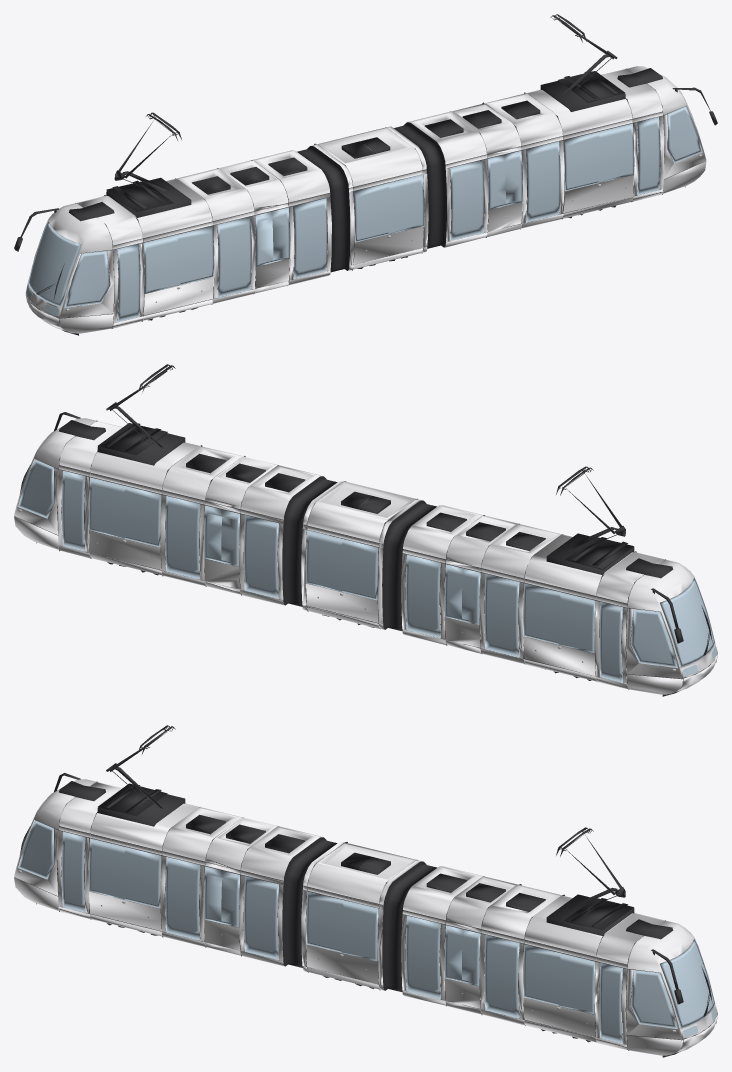
File: archmodels55-26.glb
3 renders of one model, top to bottom at view 1: azimuth 30°, elevation 25°; view 2: azimuth 150°, elevation 25°; view 3: azimuth 330°, elevation 25°, orthographic. The views are drawn at different scales.
Parts seen in each view (by area): view 1: Archmodels55_26_white, Archmodels55_26_glass, Archmodels55_26_black, Archmodels55_26_black_glass, Archmodels55_26_black2; view 2: Archmodels55_26_white, Archmodels55_26_glass, Archmodels55_26_black, Archmodels55_26_black_glass, Archmodels55_26_black2; view 3: Archmodels55_26_white, Archmodels55_26_glass, Archmodels55_26_black, Archmodels55_26_black_glass, Archmodels55_26_black2.
Part boxes in pixels (left/top/right/bottom): Archmodels55_26_white: left=25, top=66, right=706, bottom=333; Archmodels55_26_glass: left=26, top=97, right=698, bottom=315; Archmodels55_26_black: left=14, top=14, right=717, bottom=335; Archmodels55_26_black_glass: left=26, top=86, right=702, bottom=322; Archmodels55_26_black2: left=285, top=122, right=446, bottom=272; Archmodels55_26_white: left=14, top=418, right=717, bottom=694; Archmodels55_26_glass: left=22, top=450, right=716, bottom=675; Archmodels55_26_black: left=15, top=364, right=717, bottom=696; Archmodels55_26_black_glass: left=18, top=437, right=716, bottom=682; Archmodels55_26_black2: left=282, top=476, right=449, bottom=631; Archmodels55_26_white: left=14, top=779, right=717, bottom=1055; Archmodels55_26_glass: left=22, top=811, right=716, bottom=1036; Archmodels55_26_black: left=15, top=725, right=717, bottom=1057; Archmodels55_26_black_glass: left=18, top=798, right=716, bottom=1043; Archmodels55_26_black2: left=282, top=837, right=449, bottom=992.
Bounding box in the file's own units: 17.72 × 4.6 × 2.23.
